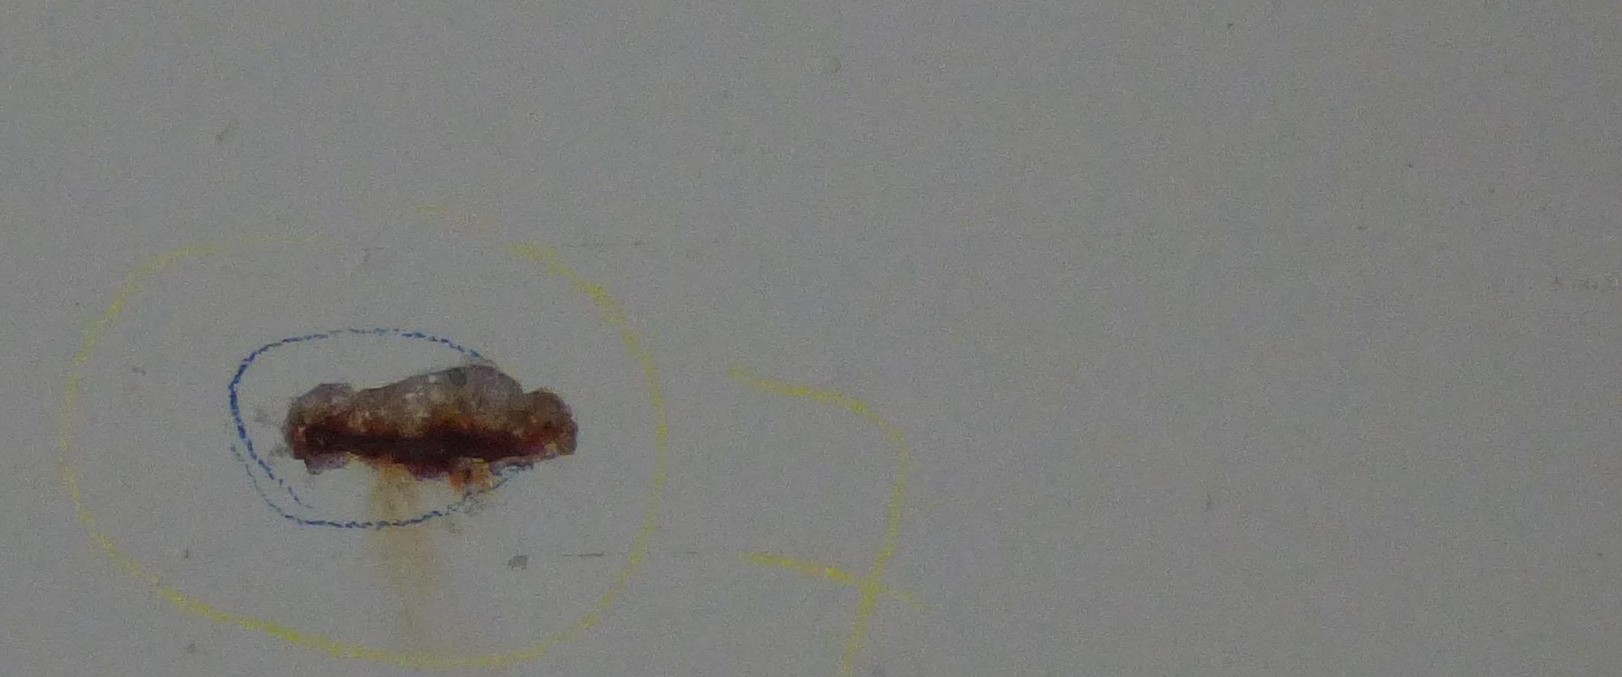Exposed reinforcement: (304, 424, 524, 460)
Spalling: (280, 365, 581, 490)
